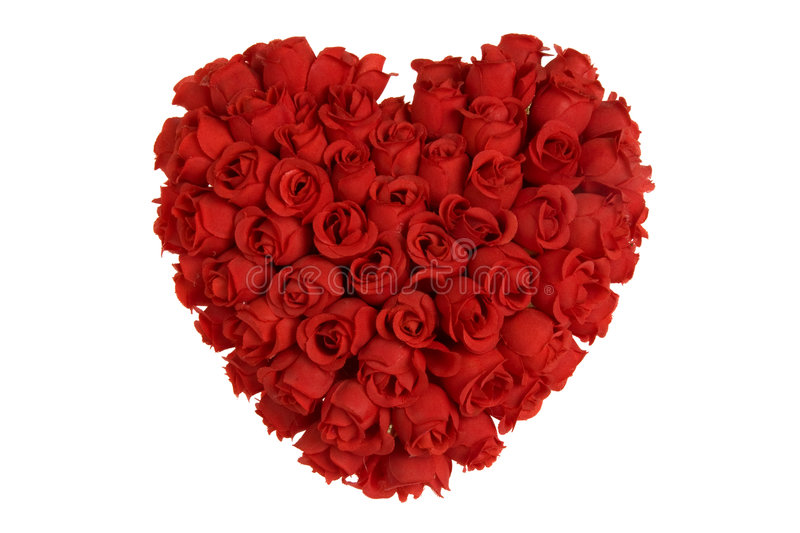RedRose: (509, 182, 593, 258), (211, 302, 301, 365), (316, 382, 388, 455), (265, 154, 339, 224), (396, 384, 460, 464), (365, 170, 432, 243), (528, 121, 597, 186), (206, 135, 269, 206), (360, 106, 423, 172), (301, 299, 364, 360), (380, 288, 443, 345), (467, 146, 524, 208)
